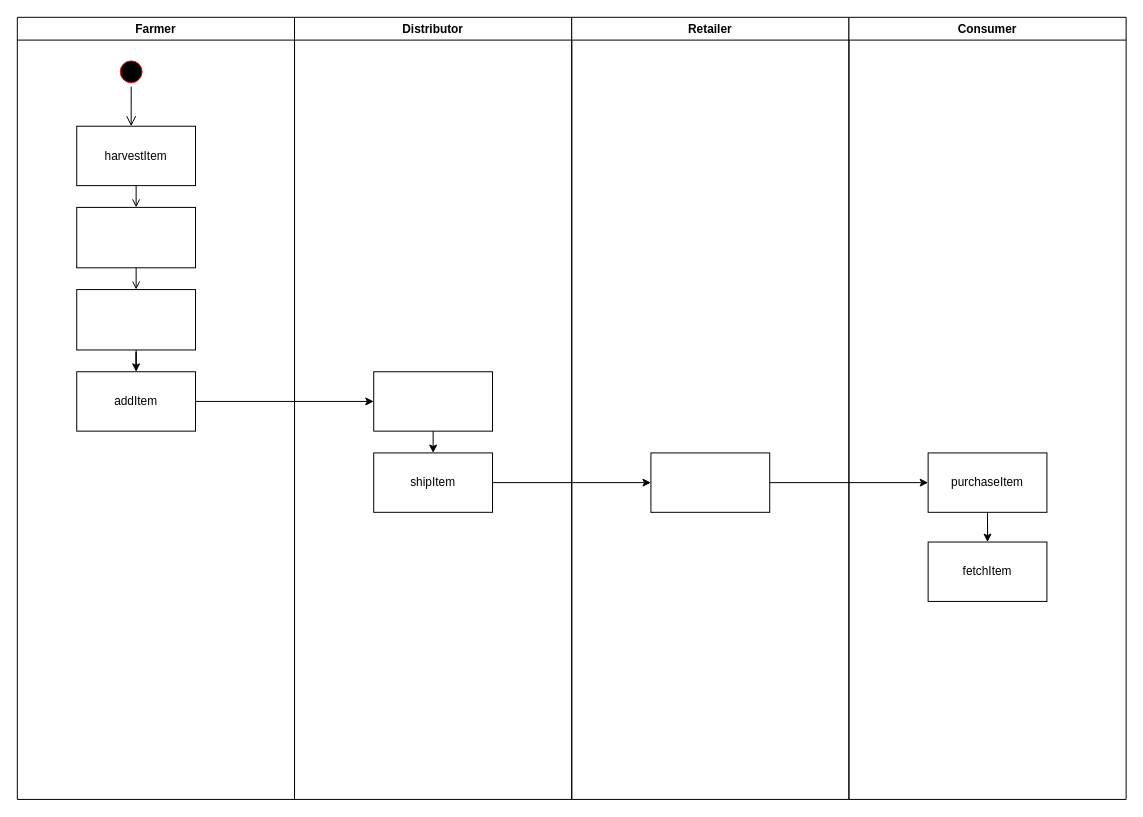
This 1143x817 diagram has some shape labels left out. Each missing label, with the centre of its shape:
"buyItem" belongs at (433,401).
"packItem" belongs at (136,319).
"processItem" belongs at (136,237).
"receiveItem" belongs at (710,482).
